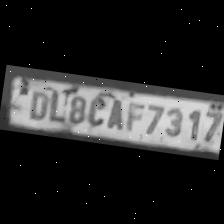1: (182, 104, 205, 140)
3: (160, 103, 186, 139)
7: (198, 106, 222, 144), (139, 100, 164, 136)
8: (63, 89, 88, 125)
A: (104, 92, 128, 130)
C: (84, 90, 109, 128)
D: (23, 84, 50, 120)
F: (124, 97, 144, 132)
L: (44, 86, 67, 122)
